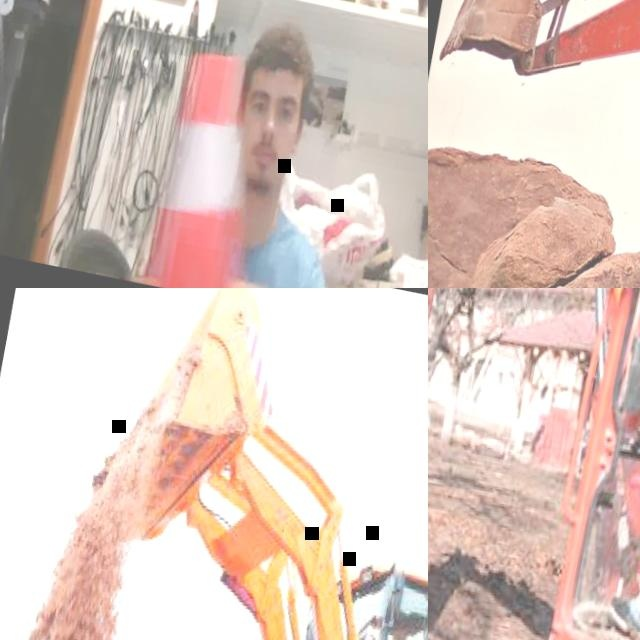NO-Hardhat: (245, 22, 316, 87), (390, 624, 409, 638)
NO-Mask: (240, 142, 286, 193), (390, 637, 405, 640)
NO-Safety Vest: (227, 219, 312, 288)
Person: (102, 1, 379, 288), (598, 371, 640, 640)
Safety Cone: (107, 36, 321, 288)
machinery: (11, 288, 428, 640), (428, 288, 640, 640), (428, 0, 640, 288)
